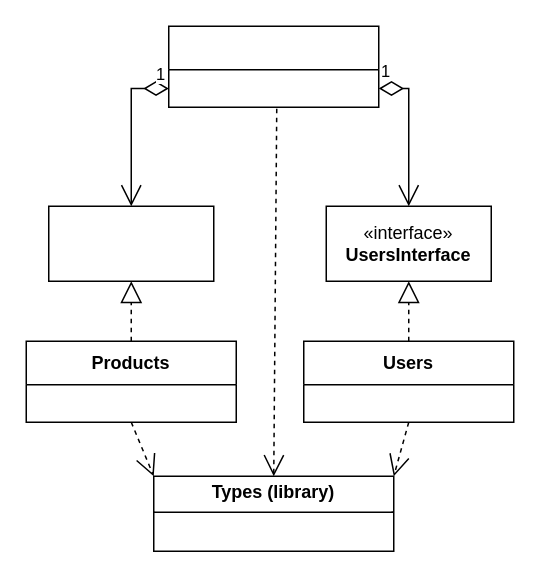
Image size: 540x578. Some labels were removed from this diagram. Here are the shapes that lost their labels. From the top down, the centre of each, then its label:
At (273,66): "SupplyChain".
At (130,243): "«interface» ProductsInterface".
